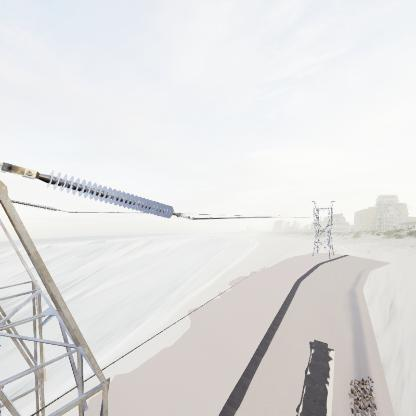insulator: (46, 169, 178, 219)
